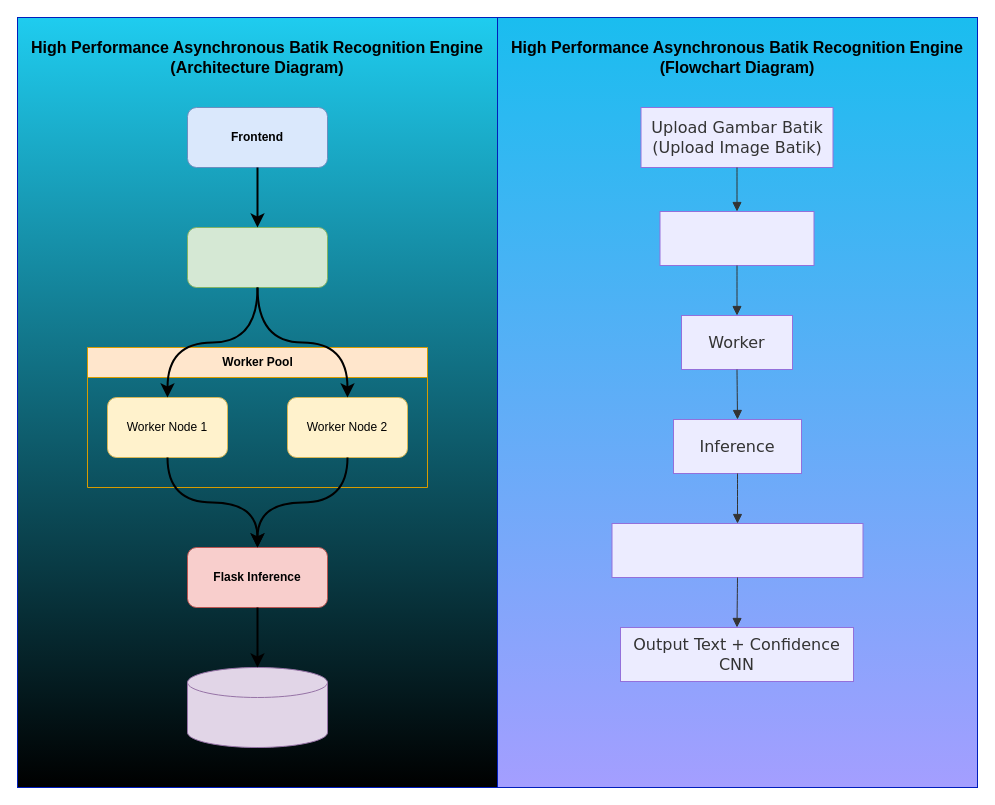
This 995x805 diagram has some shape labels left out. Here are the shapes that lost their labels. From the top down, the centre of each, then its label:
At point 257,257: "Go API Gateway".
At point 736,238: "Queue Channel".
At point 737,550: "Delete Temp File Gambar Batik (Delete Temp File Image Batik)".
At point 257,707: "CNN Model".
